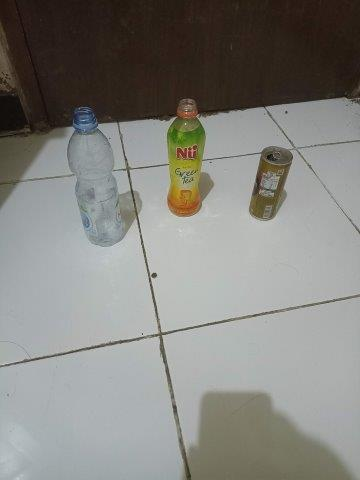botolplastik: (66, 106, 124, 247), (166, 97, 206, 220)
kaleng: (249, 146, 293, 221)
